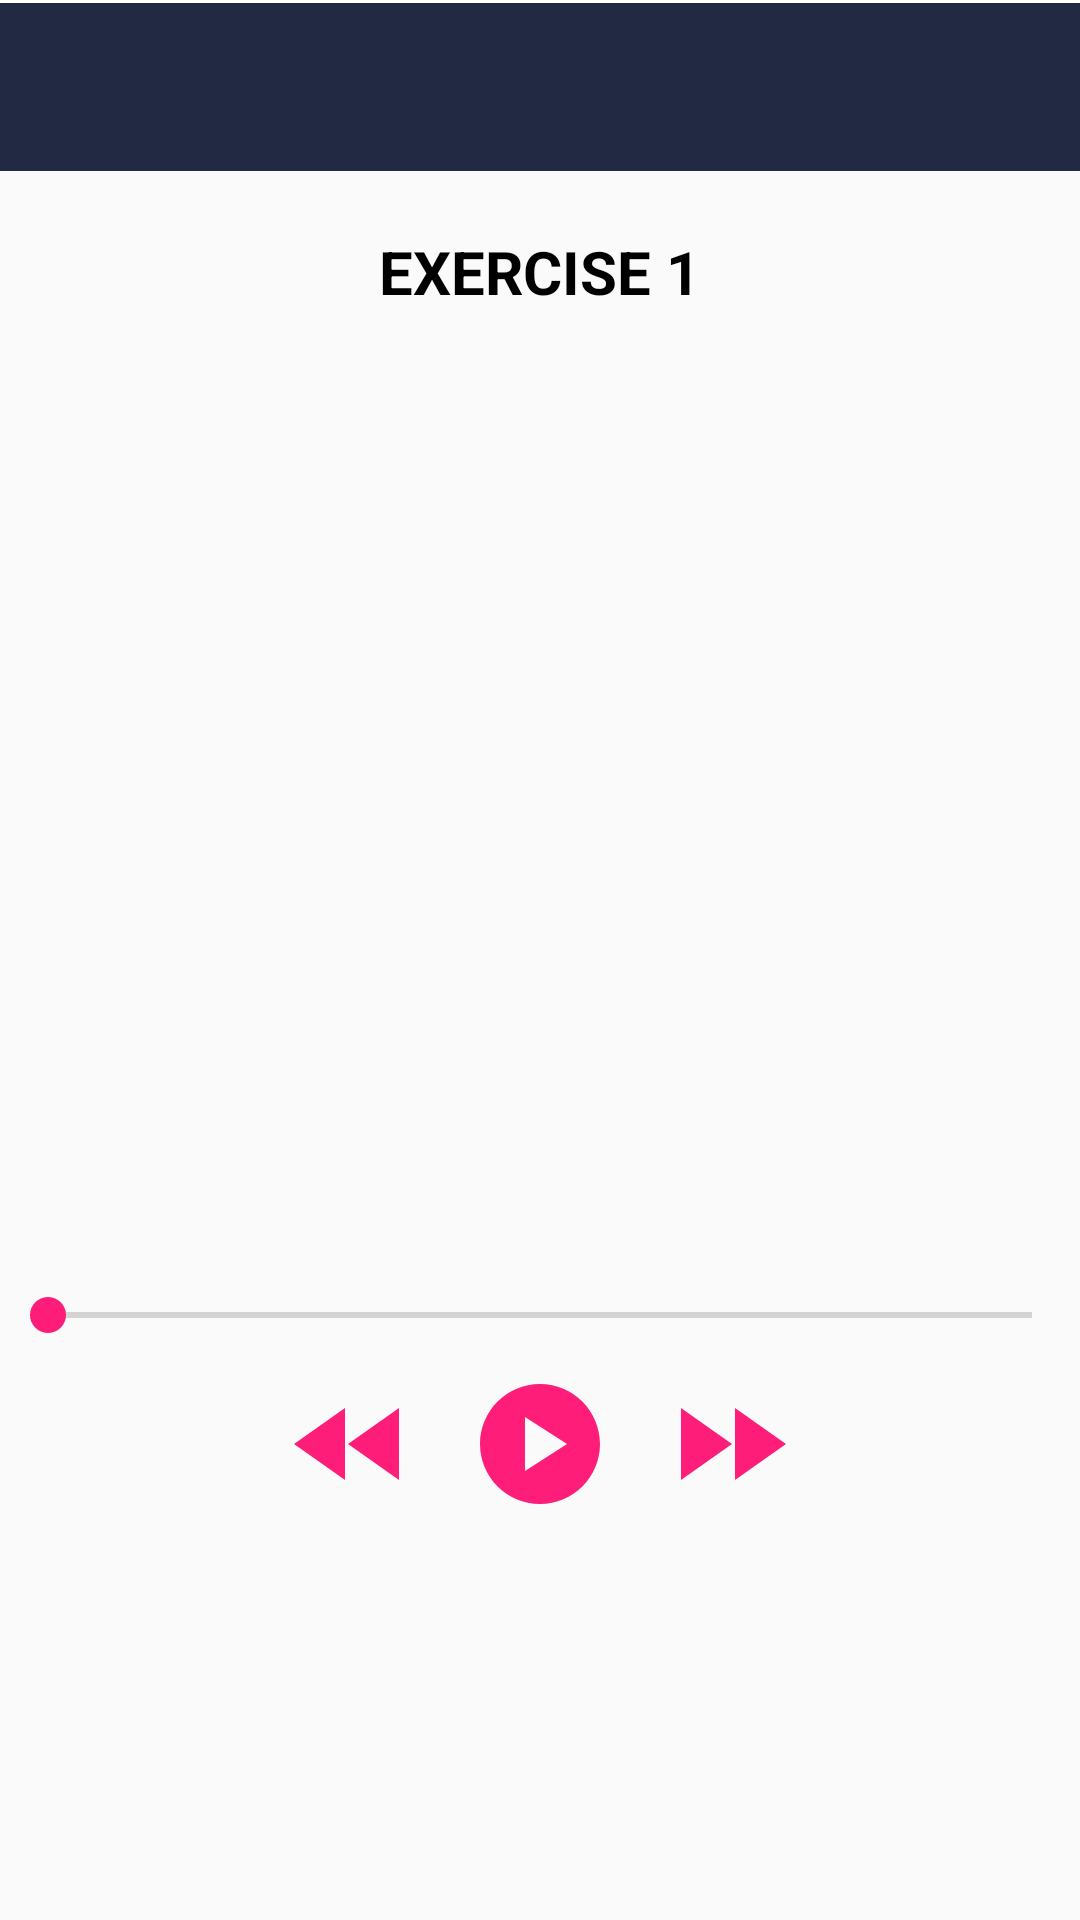

Icon click points for this 1080×1920 phone screenshot, format point (x, y):
fast forward: point (733, 1444)
fast rewind: point (346, 1444)
play: point (540, 1444)
